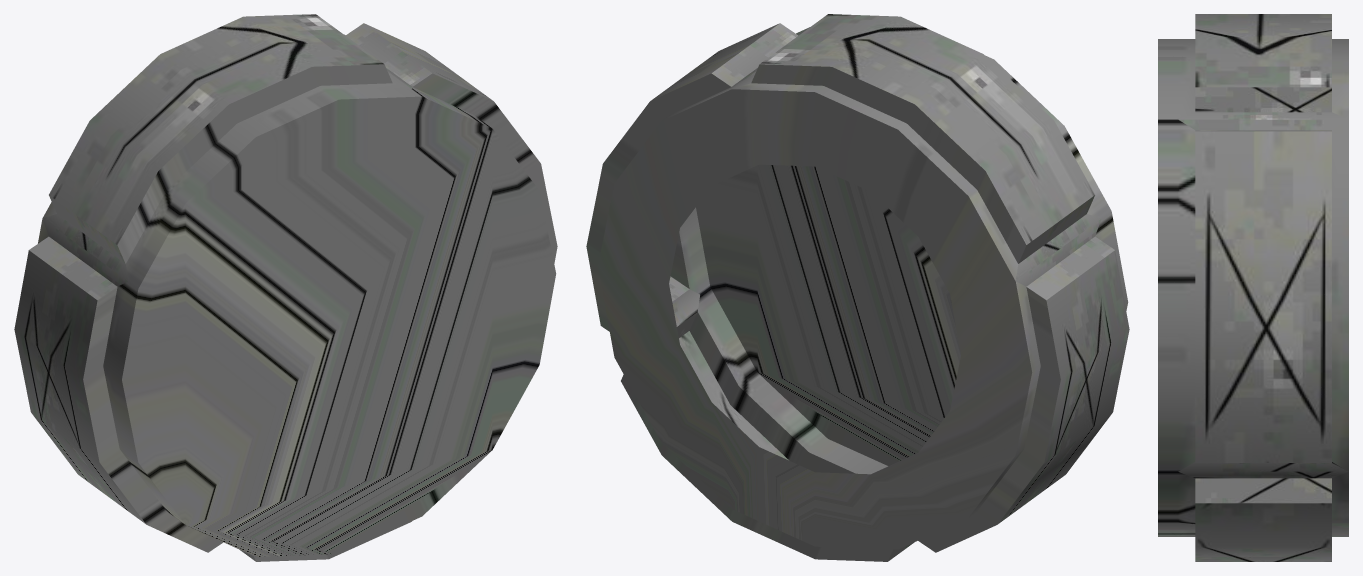
Rendered from cypher4.glb.
3 renders of one model, left to right at view 1: azimuth 30°, elevation 25°; view 2: azimuth 150°, elevation 25°; view 3: azimuth 270°, elevation 25°, orthographic.
Parts seen in each view (by area): view 1: cypher4; view 2: cypher4; view 3: cypher4.
Part boxes in pixels (x1=…): cypher4: x1=14, y1=14, x2=557, y2=561; cypher4: x1=586, y1=14, x2=1129, y2=561; cypher4: x1=1158, y1=14, x2=1348, y2=561.
Size of the model in its own units: 0.3068 by 0.3068 by 0.1075.
Materials: 1 (1 with a texture image).
